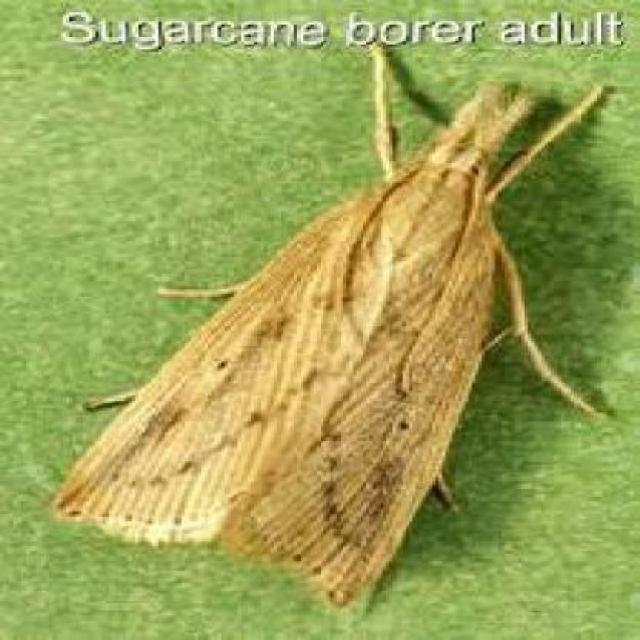stem-borer: (47, 67, 627, 611)
